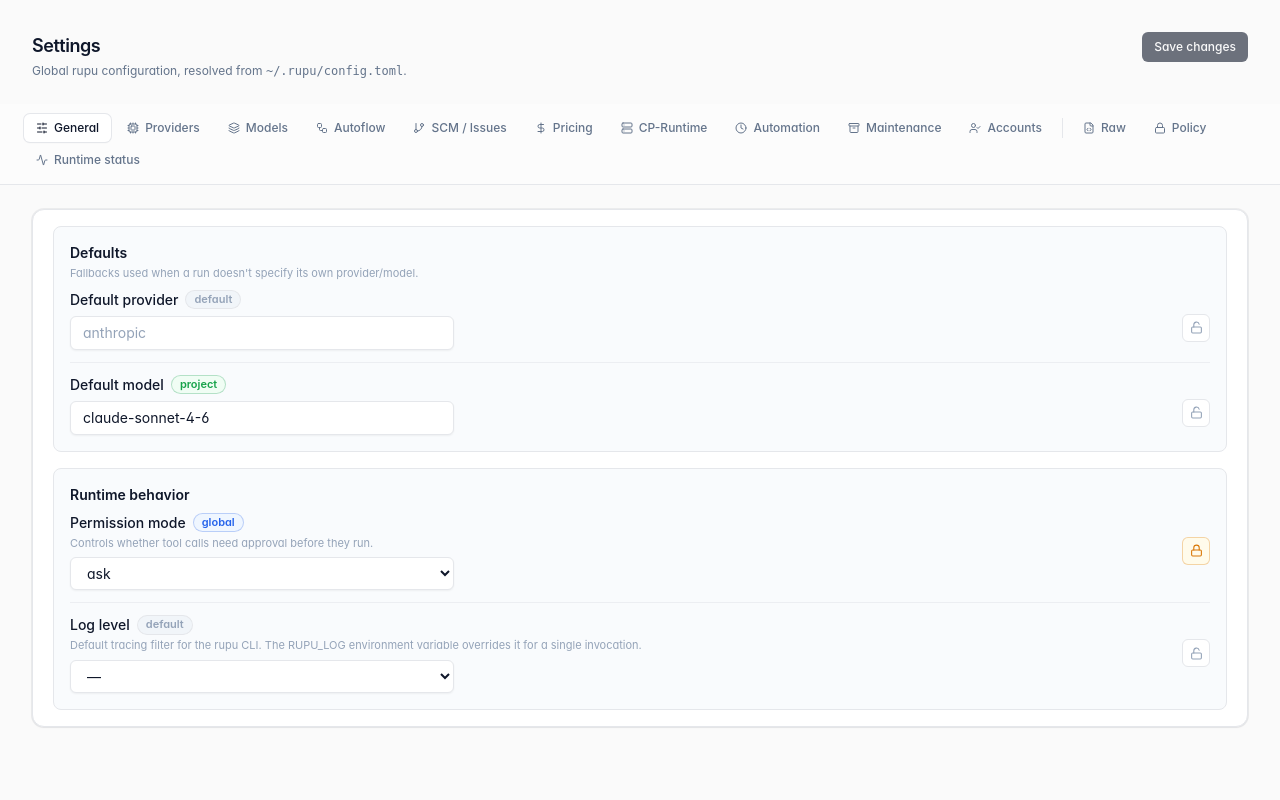
Scenario: Settings page › surfaces a 400 validation error inline
In the field labelled "Default model": [262, 418] box [70,400,454,434], type "claude-opus-4-6"
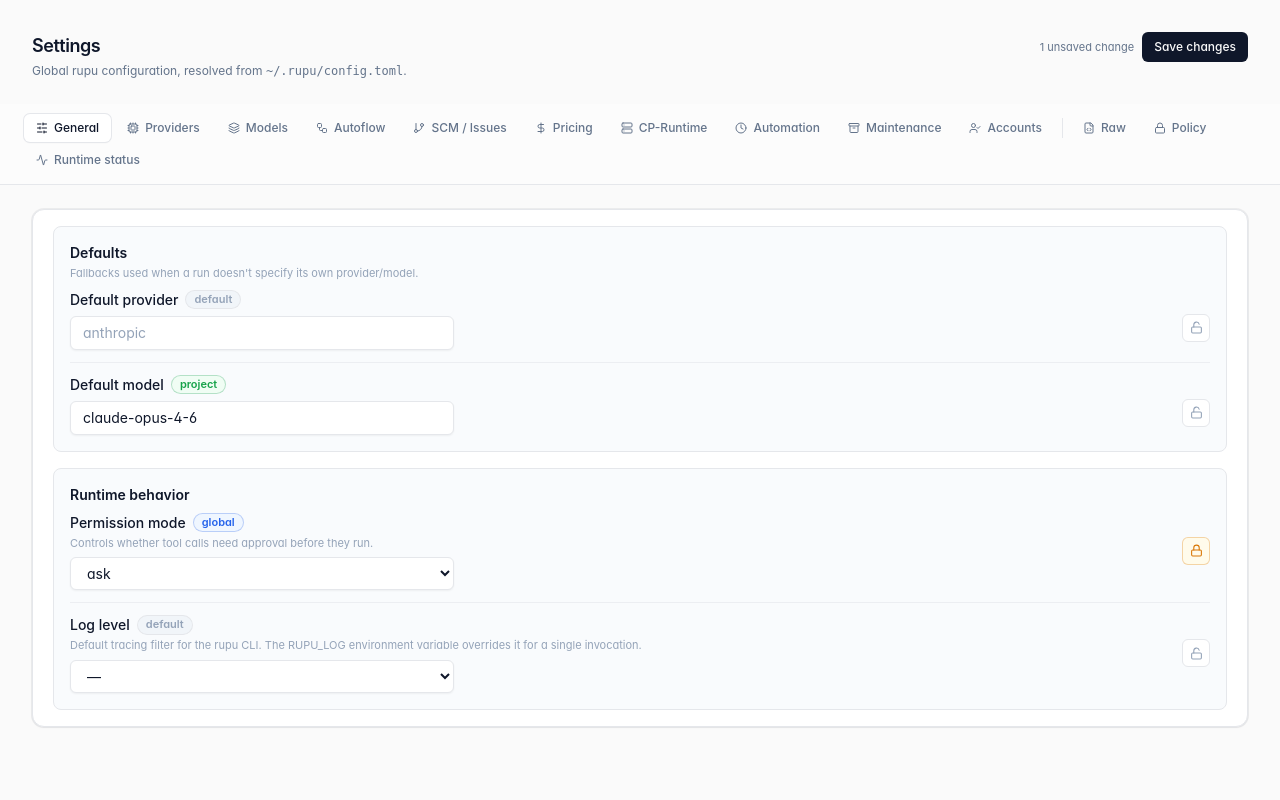
Click the button "Save changes": [1195, 47] box [1142,32,1248,62]
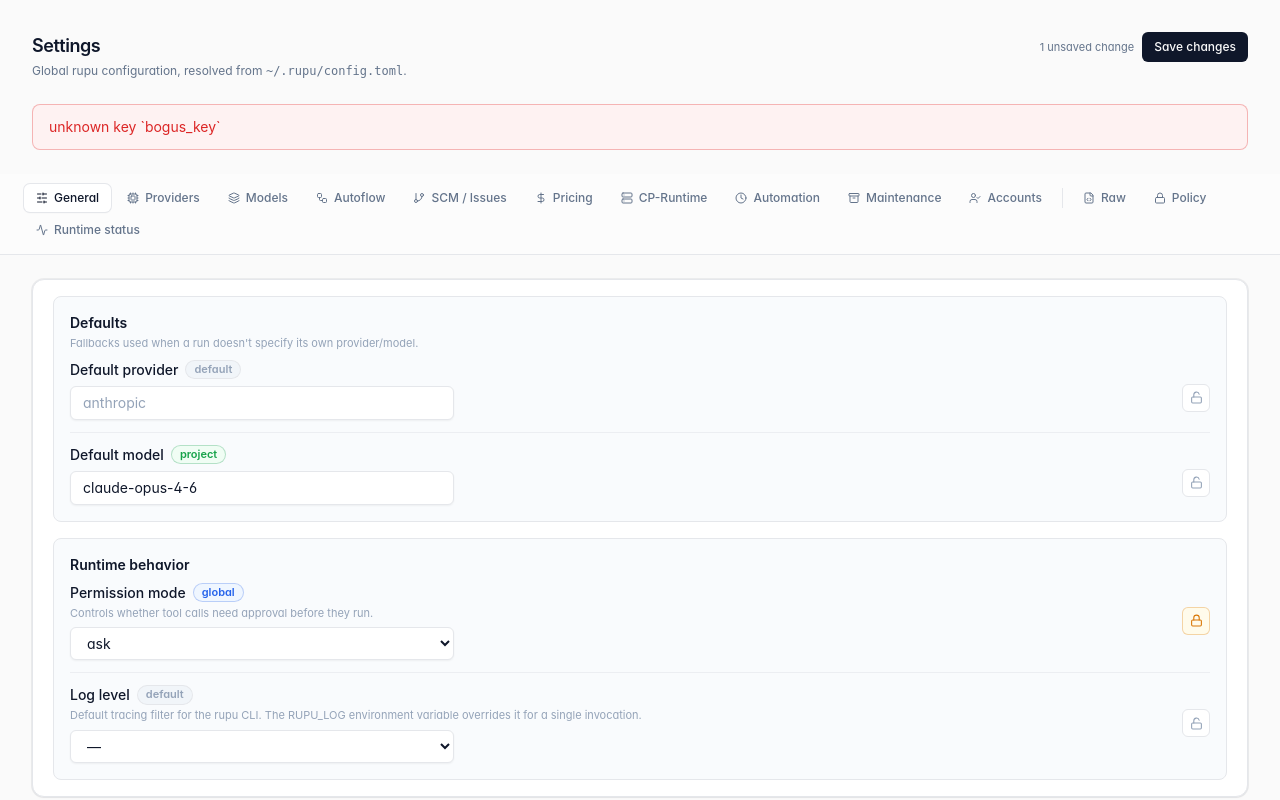
Check: the text "unknown key `bogus_key`" is shown, box [32,104,1248,150]
